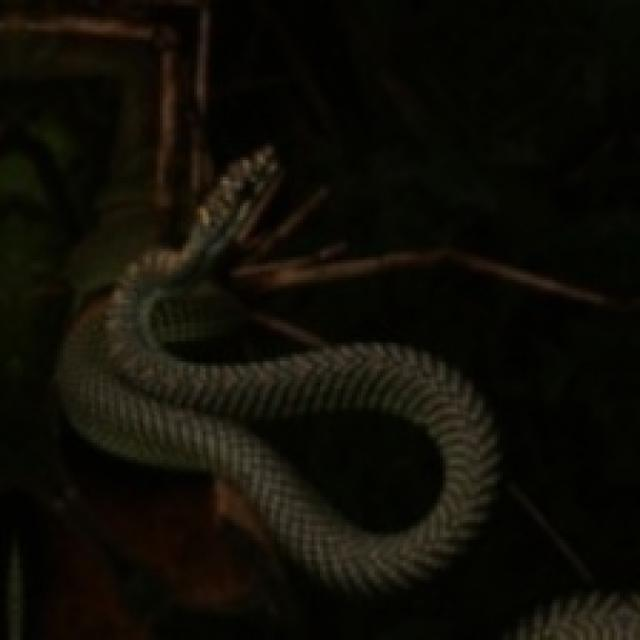paradise tree snake: (57, 149, 497, 589)
